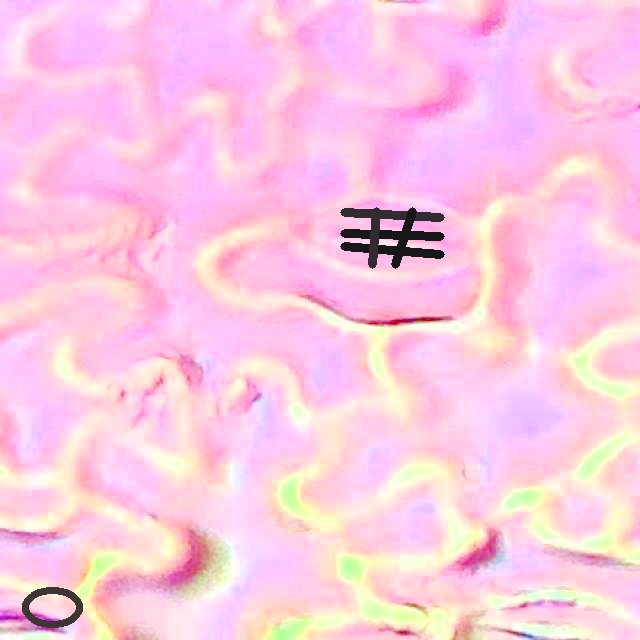close: (340, 207, 444, 268)
open: (22, 587, 83, 628)
